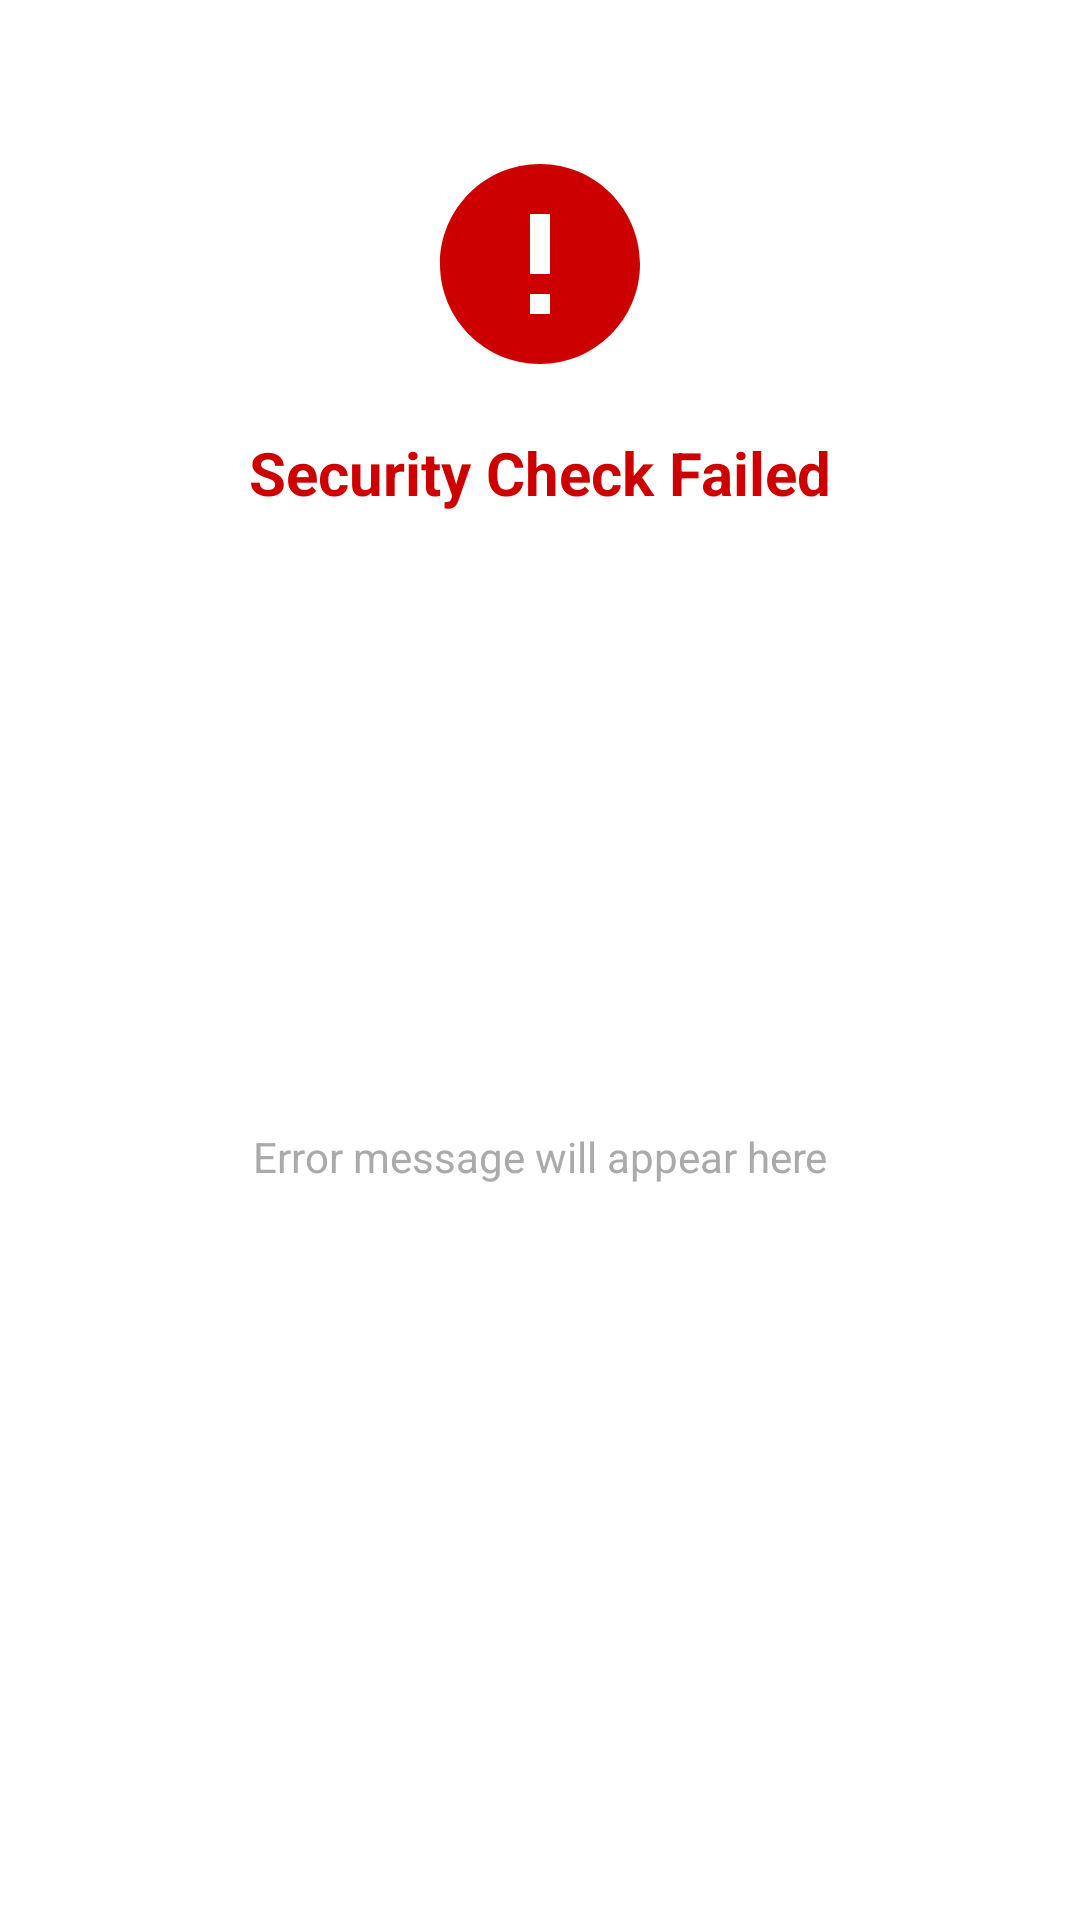

Screen size 1080 × 1920. Icon name, then its box in pixels as (x1, y1, x2, y2):
error circle: (439, 164, 640, 364)
